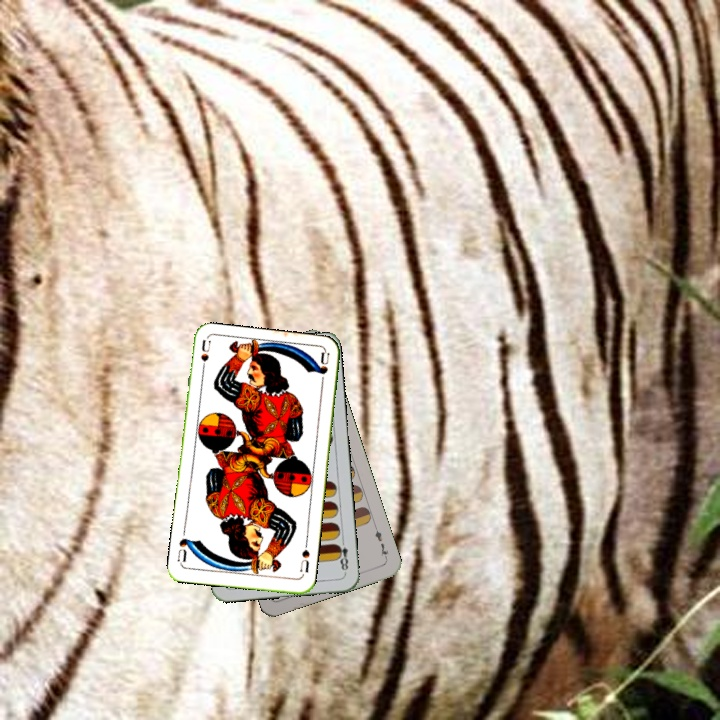E7: (371, 522, 391, 562)
E8: (332, 535, 351, 576)
SU: (296, 538, 312, 579), (197, 337, 213, 378)
